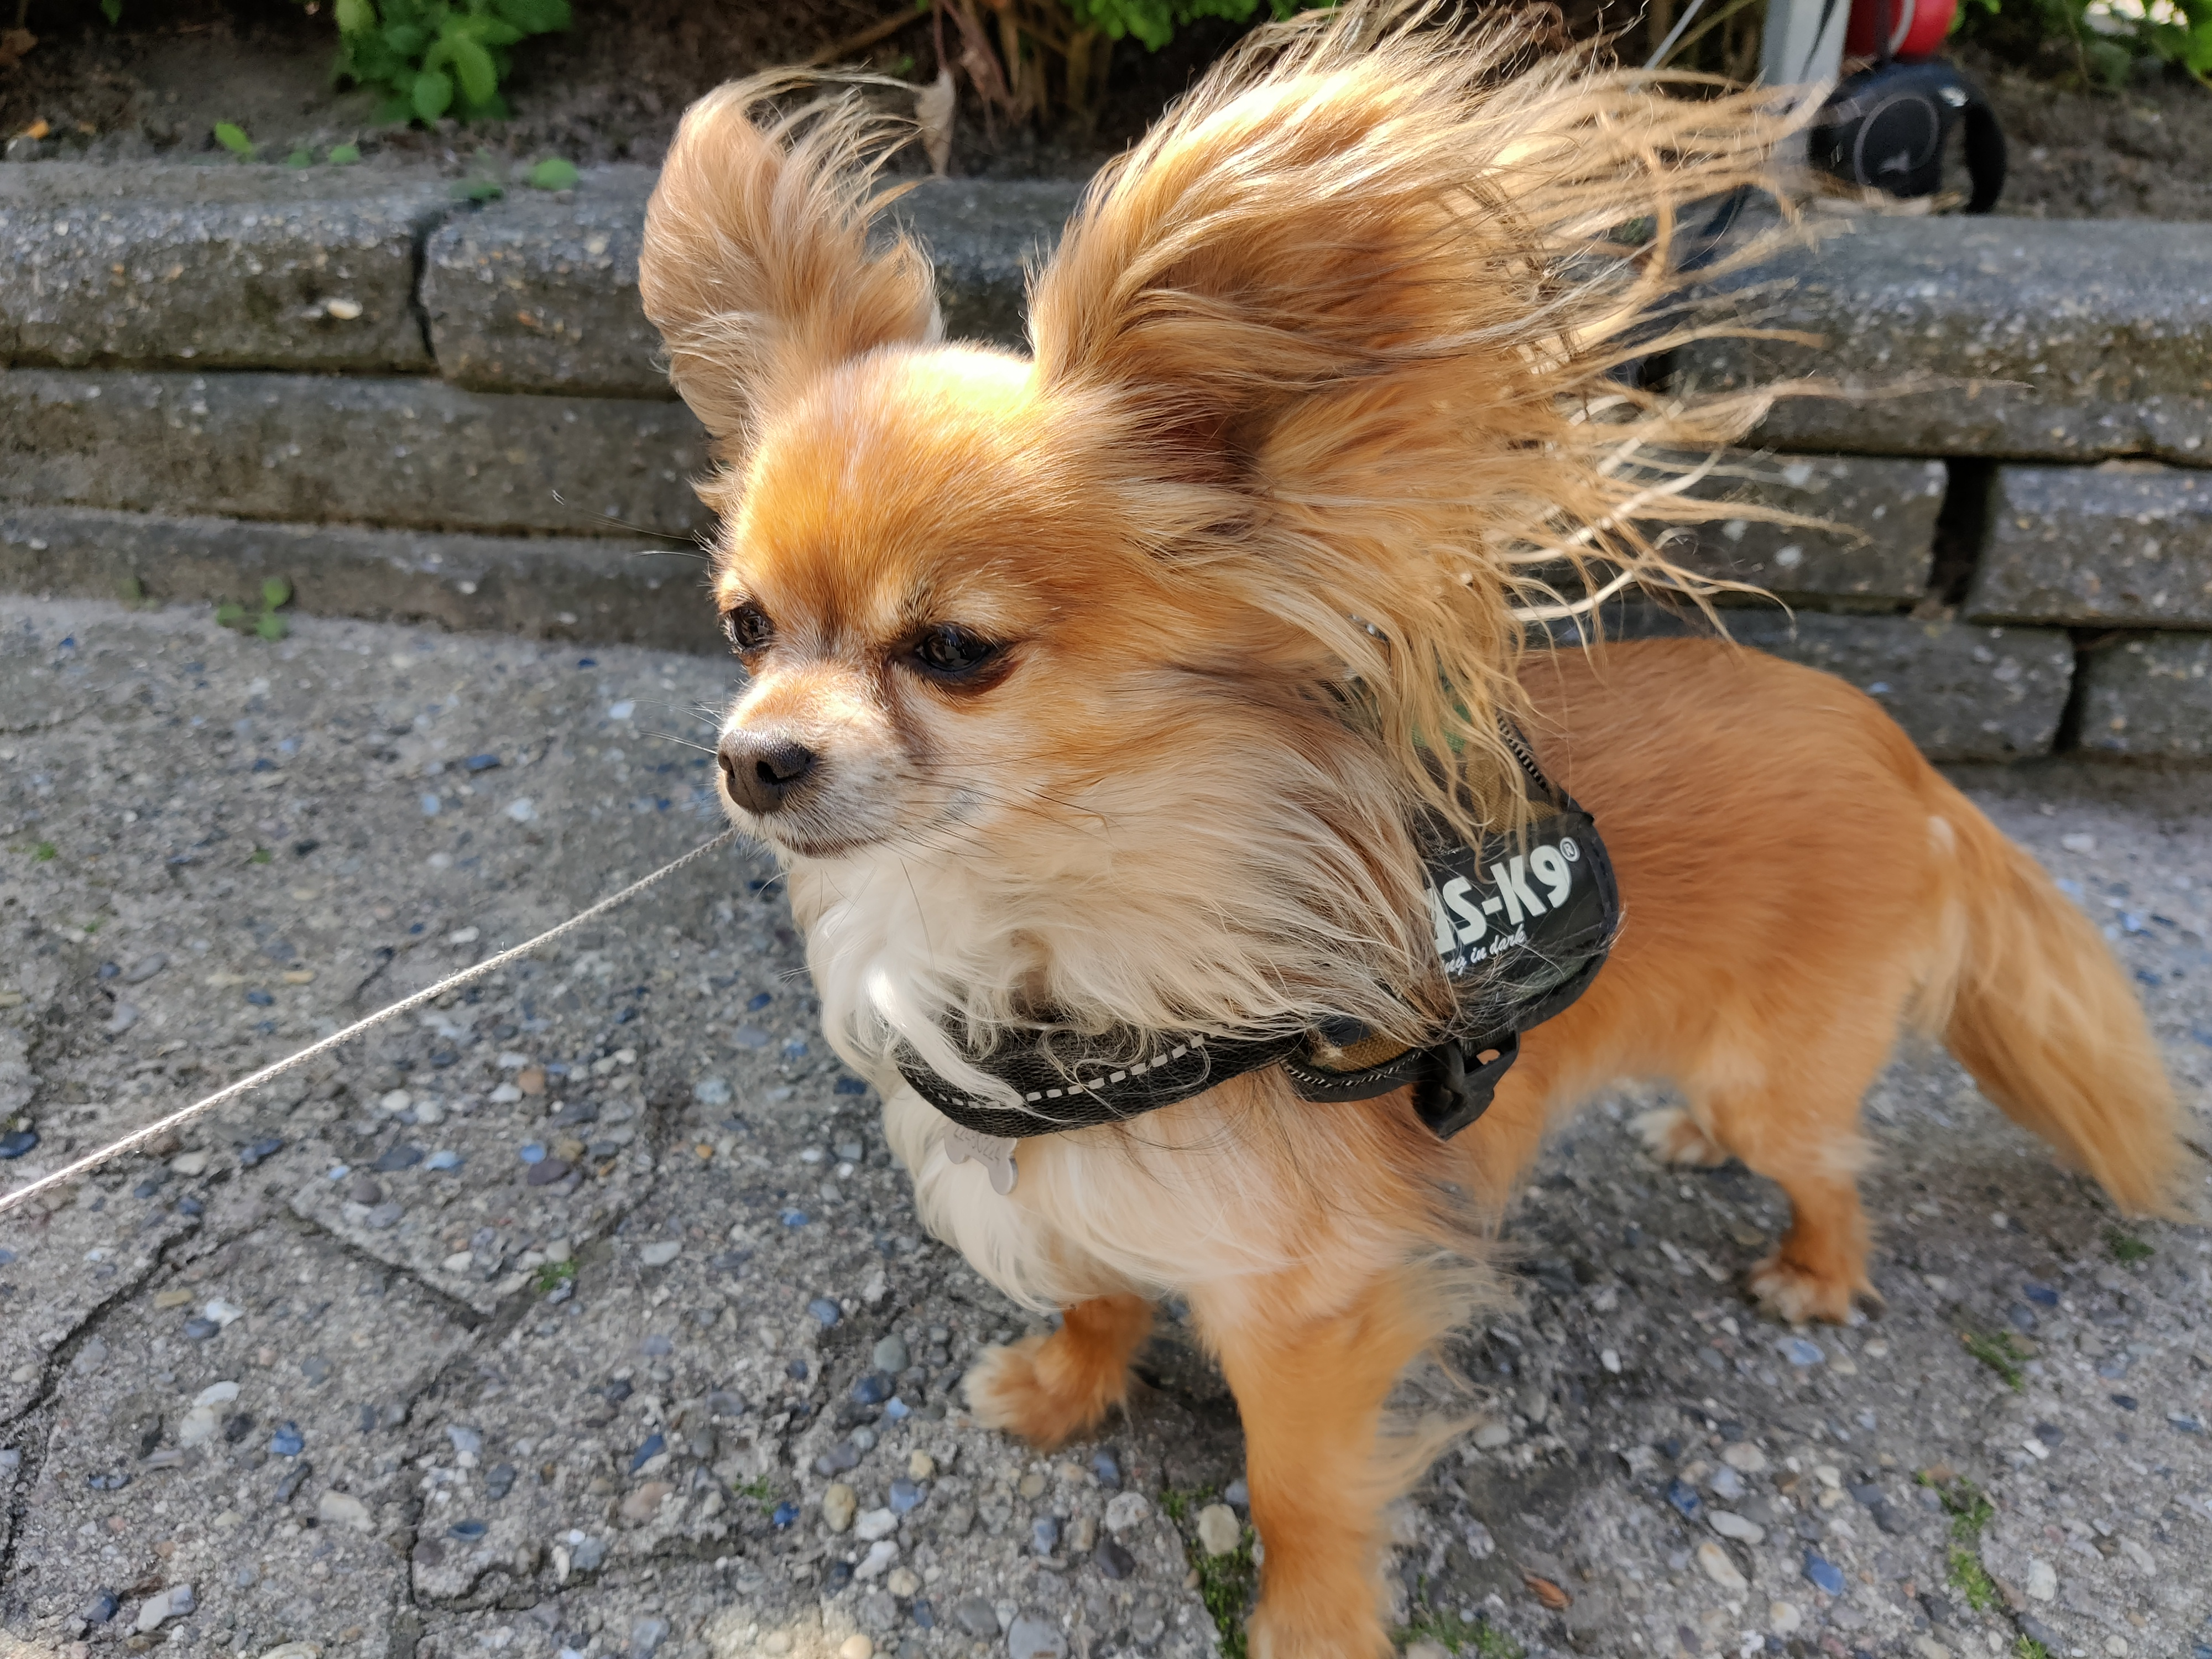Dog: (608, 0, 2186, 1659)
